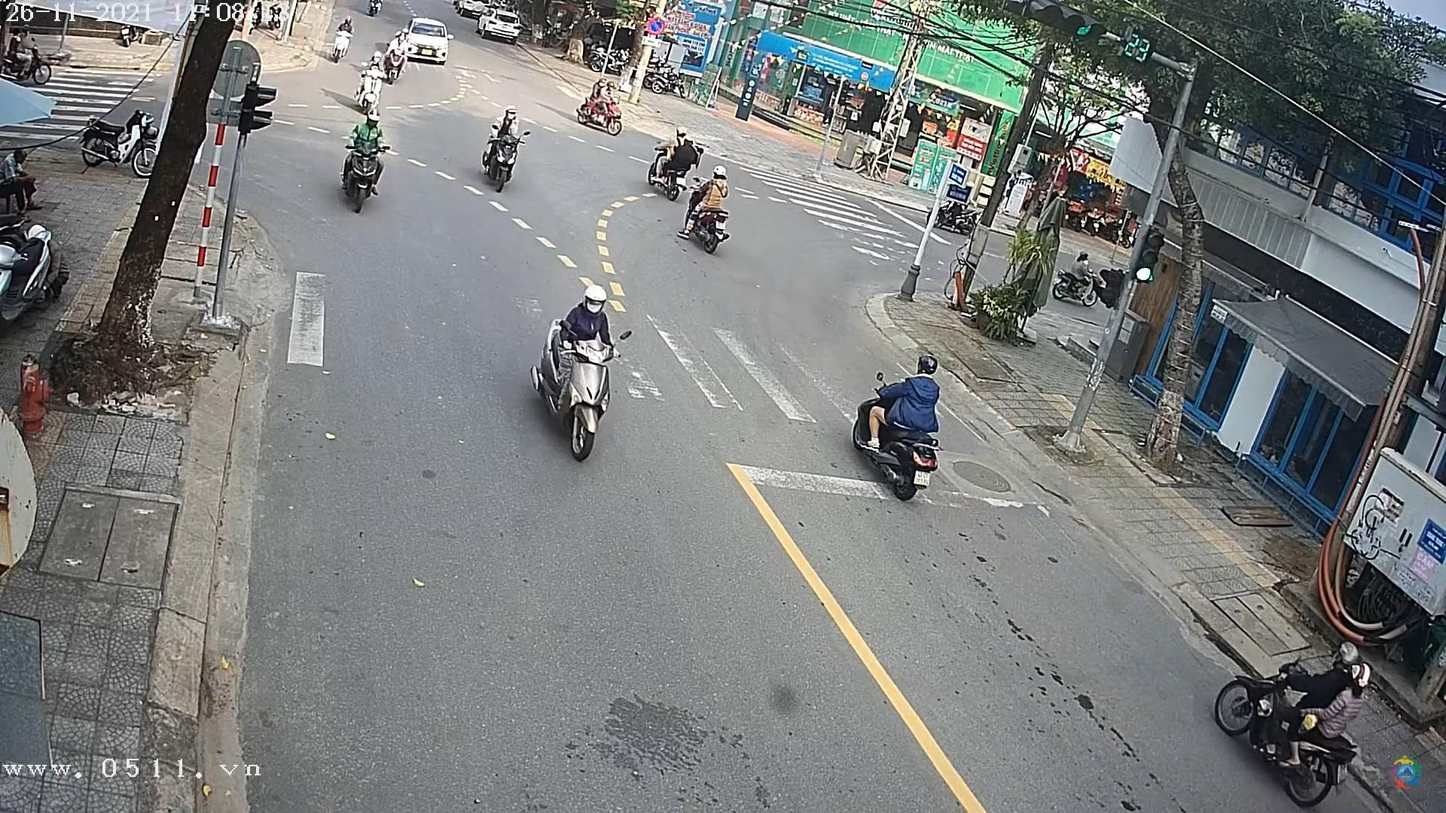car: (402, 20, 450, 66)
motorbike: (533, 316, 633, 467), (336, 134, 391, 214), (477, 128, 530, 194), (356, 64, 390, 114), (328, 29, 355, 62)
